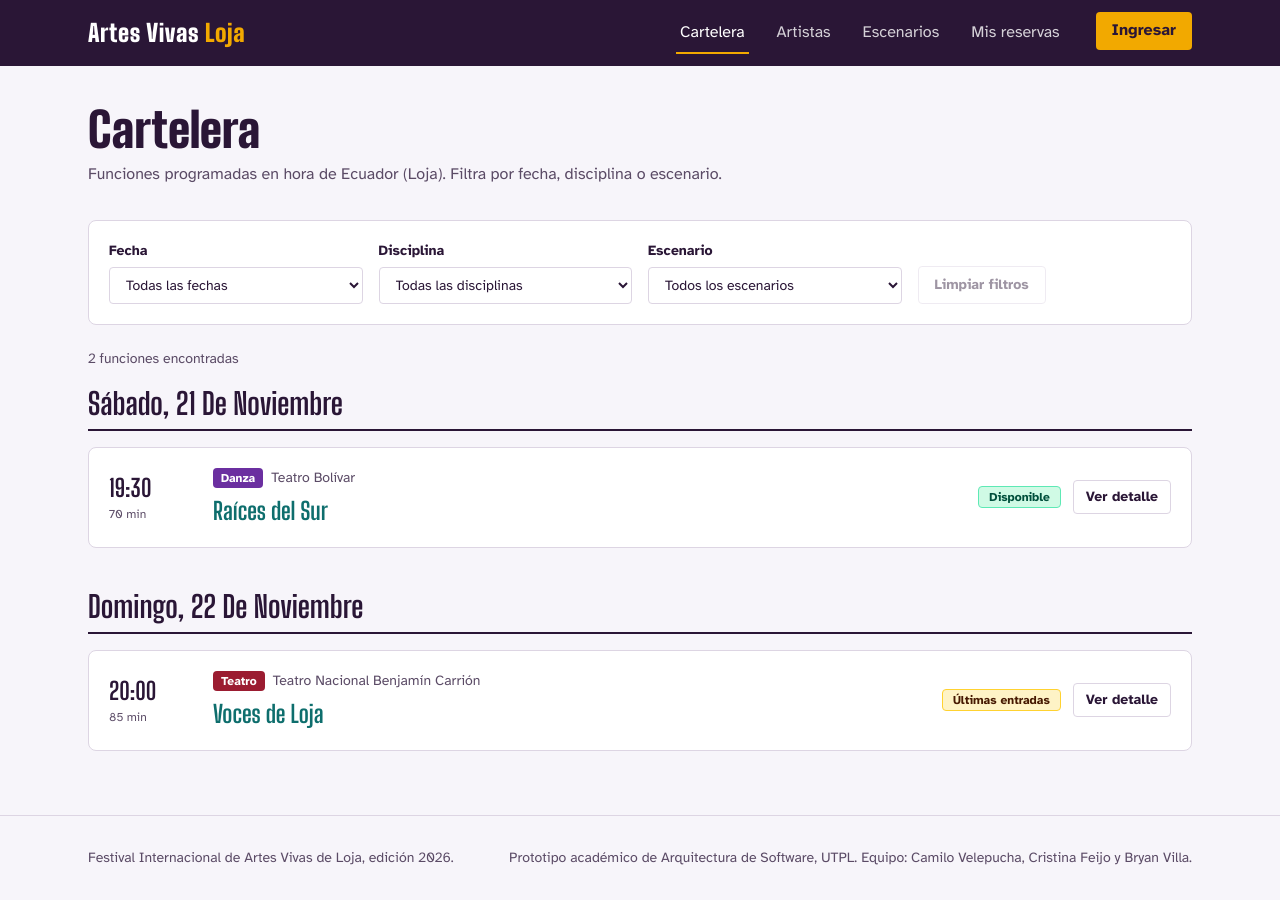
Test: ProgramPage (/cartelera) › al cambiar un filtro vuelve a consultar la API con los parámetros
Expected: the link "Raíces del Sur" is shown, [213,496,328,525]
Select "Danza" in the dropdown labelled "Disciplina" at x=505, y=285, box [378,267,632,304]
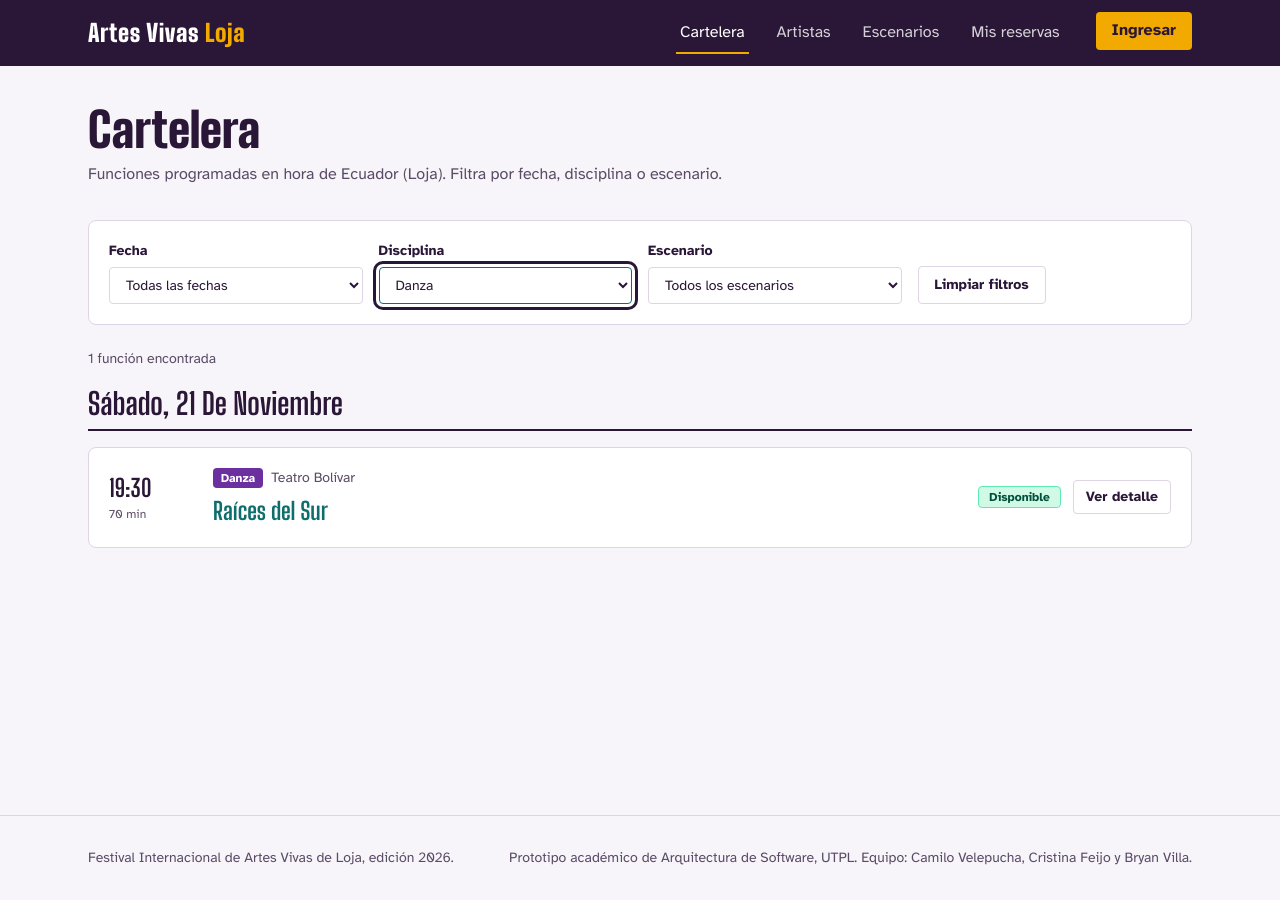
Expected: the link "Voces de Loja" is gone
